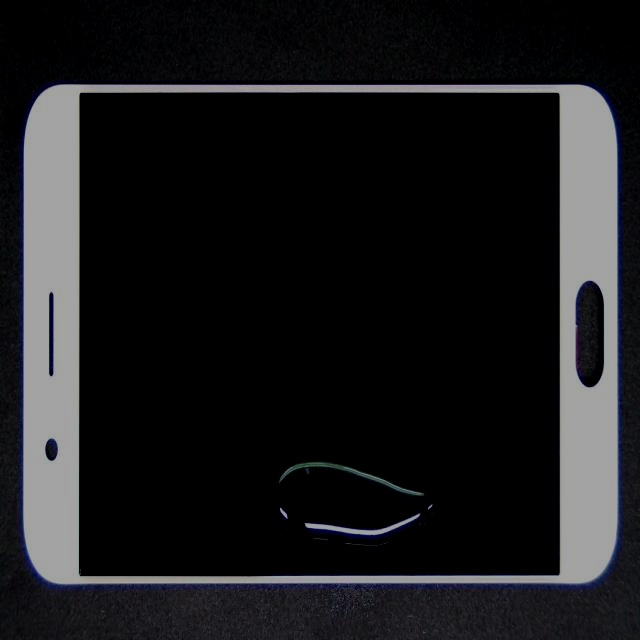oil: (260, 274, 616, 640)
